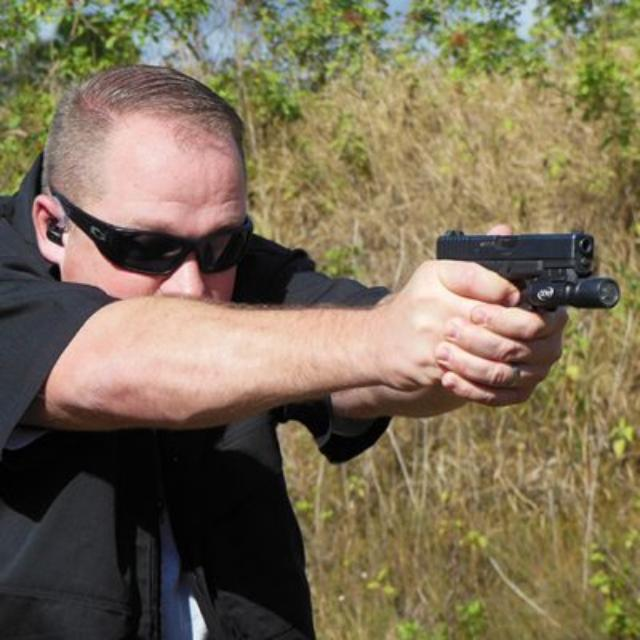handgun: (432, 224, 624, 338)
